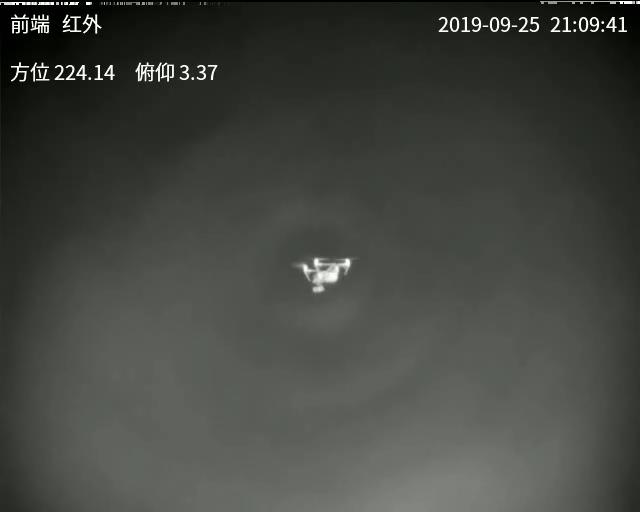uav: (296, 256, 351, 299)
